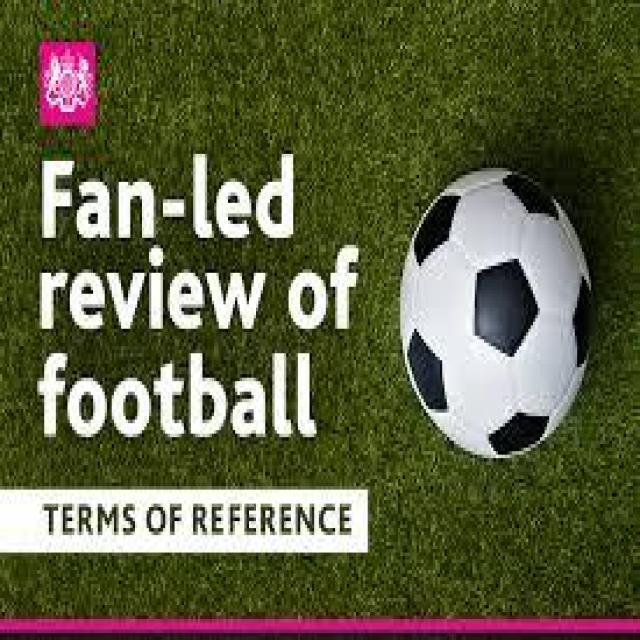Soccer Ball: (402, 168, 596, 462)
